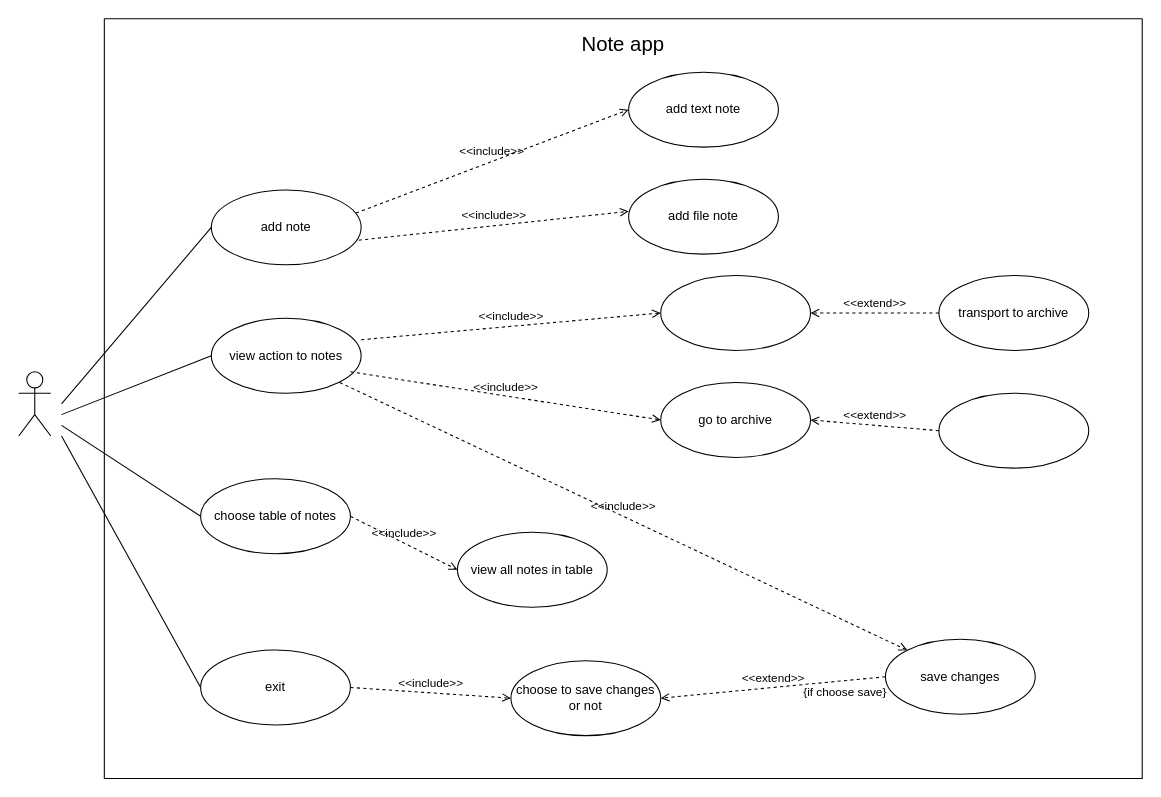
This 1161x797 diagram has some shape labels left out. Here are the shapes that lost their labels. From the top down, the centre of each, then its label:
[735,312]: view all notes
[34,403]: Actor
[1013,430]: return from archive
